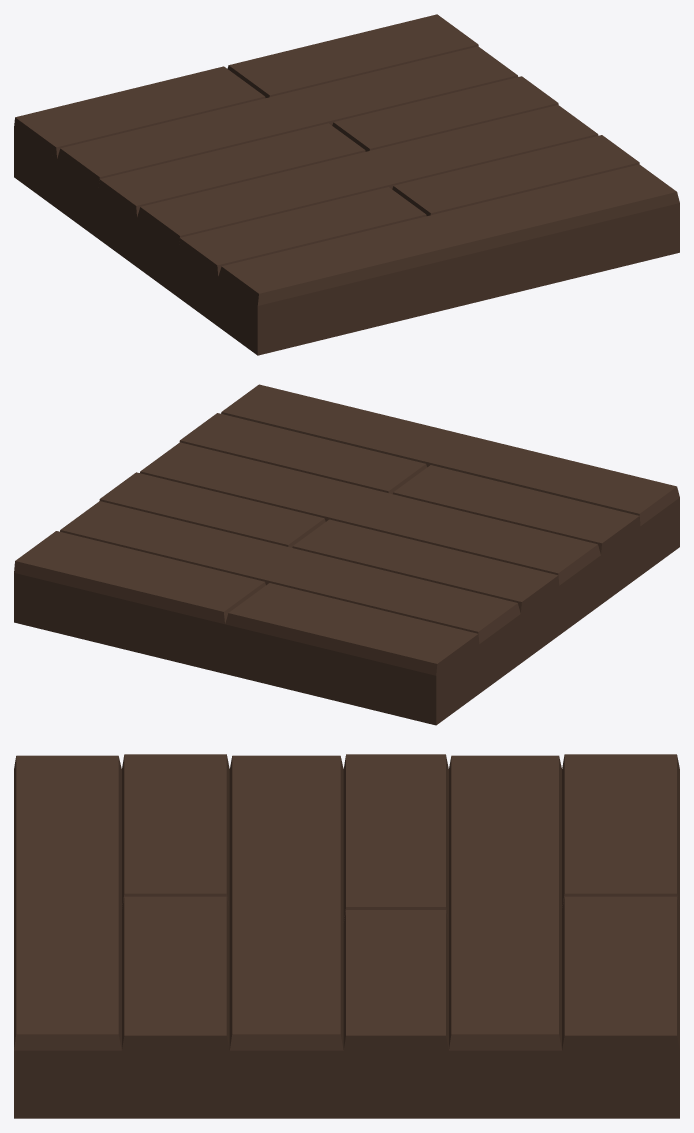
Rendered from S_Floor.fbx.
The picture shows the model from 3 angles, top to bottom: view 1: azimuth 30°, elevation 25°; view 2: azimuth 150°, elevation 25°; view 3: azimuth 270°, elevation 25°; orthographic projection. The views are drawn at different scales.
Parts seen in each view (by area): view 1: S_Floor; view 2: S_Floor; view 3: S_Floor.
Boxes of the visible parts, left/top/right/bottom form: S_Floor: left=14, top=14, right=679, bottom=355; S_Floor: left=14, top=384, right=679, bottom=725; S_Floor: left=14, top=754, right=679, bottom=1118.
Size of the model in its own units: 200 by 27.5 by 200.
